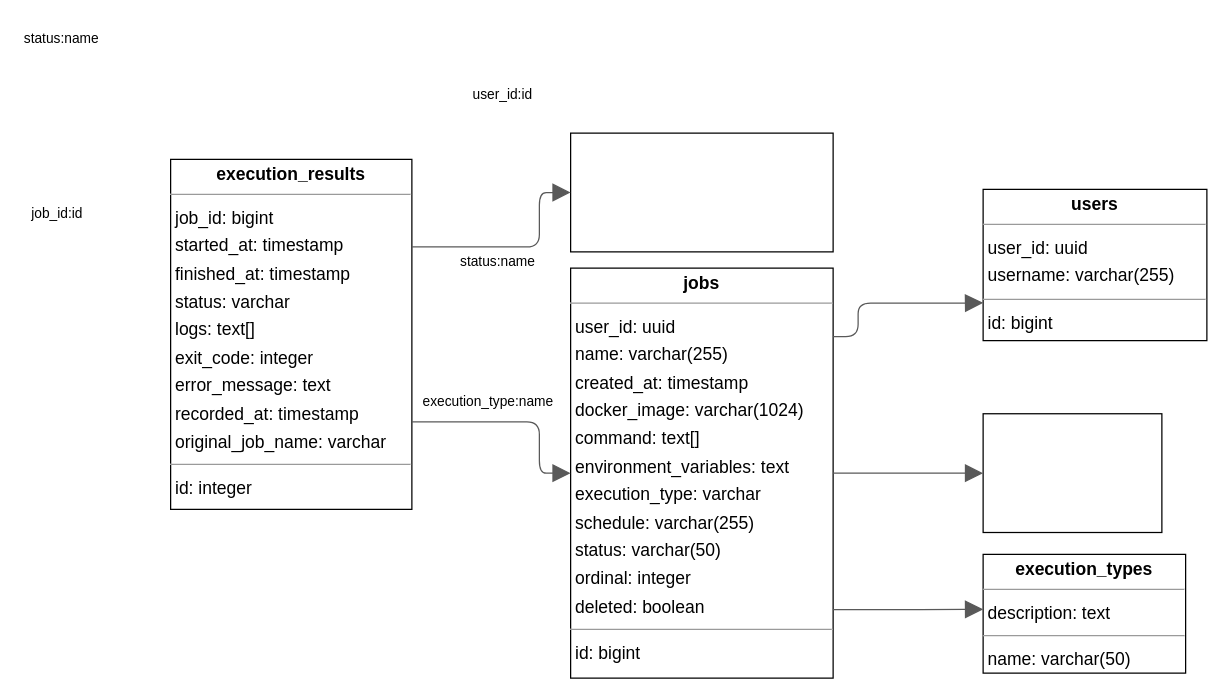
Image size: 1229x700. Some labels were removed from this diagram. The box of each missing label's shape, as (x1, y1, x2, y2) in pixels:
execution_statuses description: text name: varchar(50): (569, 132, 833, 252)
job_statuses description: text name: varchar(50): (982, 412, 1162, 532)
